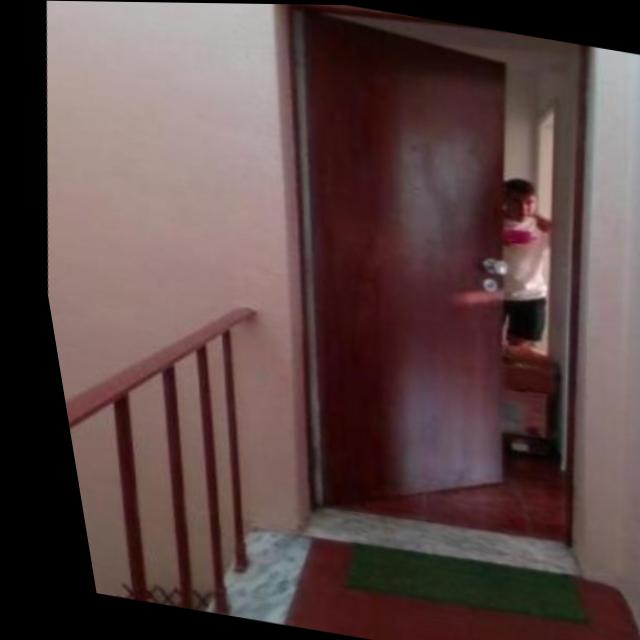door_handle: (468, 255, 516, 286)
